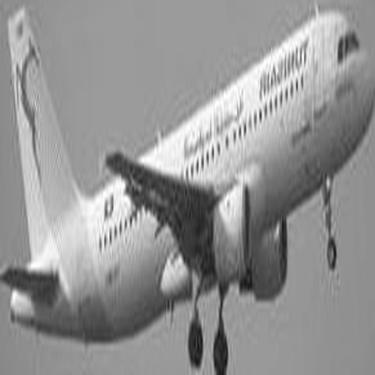airplane: (7, 7, 364, 363)
